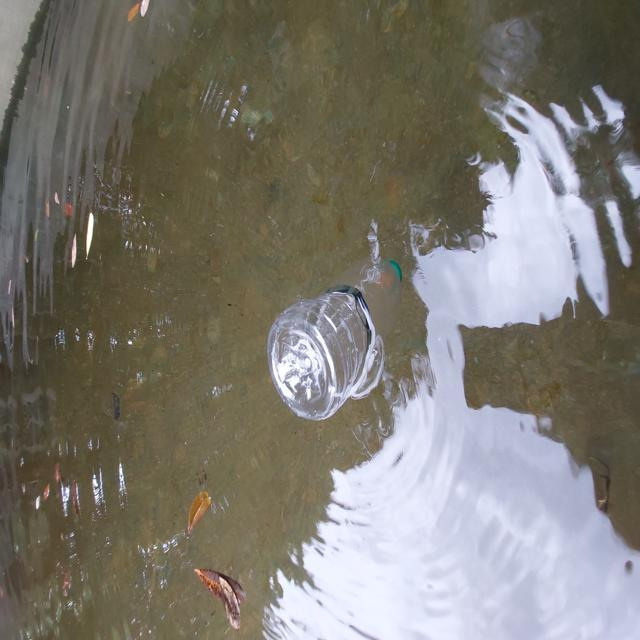leaf: (176, 482, 248, 638)
waterbottle: (266, 249, 421, 426)
